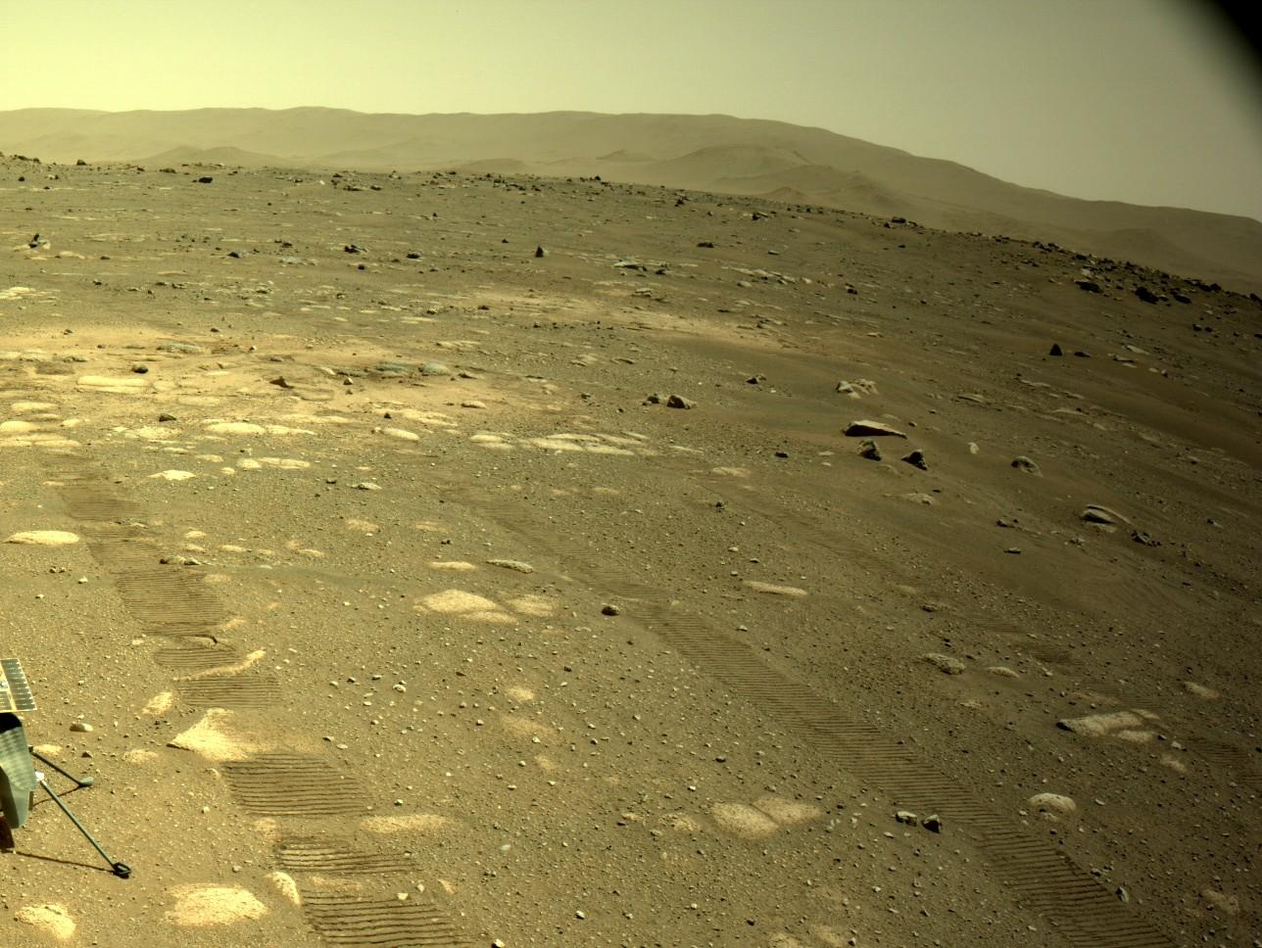bedrock: (9, 145, 884, 498), (819, 210, 987, 242), (4, 926, 262, 946), (1209, 281, 1251, 294), (66, 926, 170, 930), (5, 478, 7, 485)
big_rock: (1014, 227, 1200, 278), (1252, 299, 1257, 312)
sand: (57, 120, 1224, 242), (6, 280, 11, 473), (969, 231, 1012, 241)
soil: (172, 229, 1258, 944), (8, 486, 170, 925), (1250, 295, 1251, 297)
